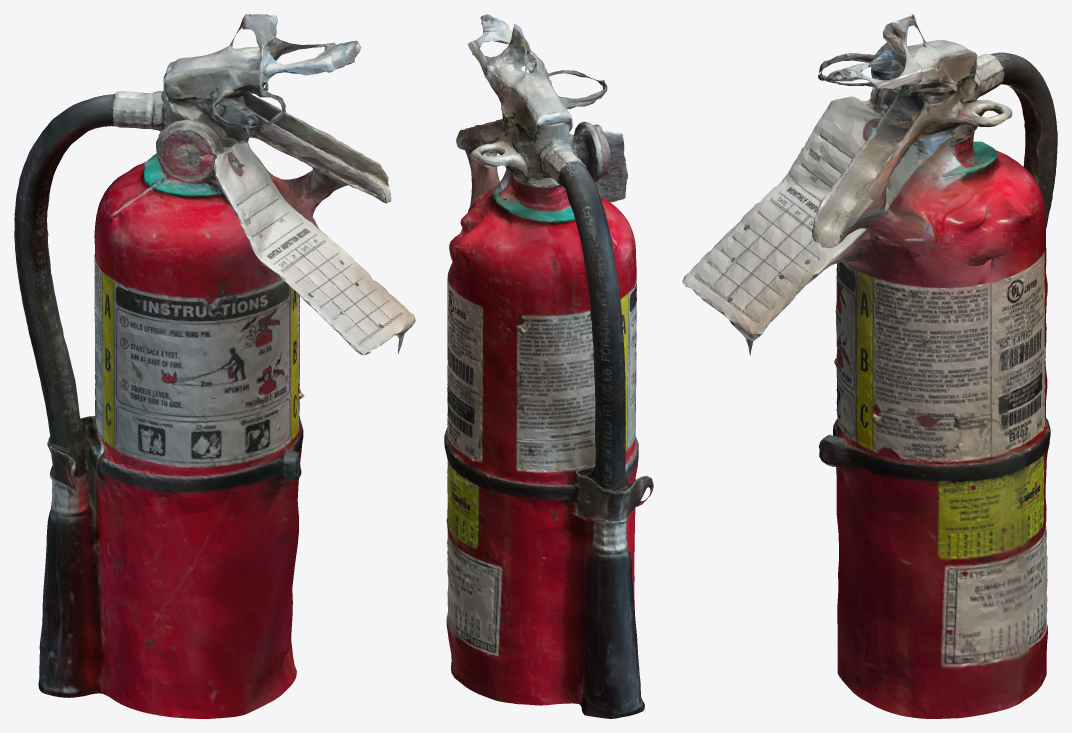
The model's file is fireextinguisher.fbx.
The picture shows the model from 3 angles, left to right: view 1: azimuth 30°, elevation 25°; view 2: azimuth 150°, elevation 25°; view 3: azimuth 270°, elevation 25°; orthographic projection. The views are drawn at different scales.
Visible parts, largest first — view 1: Mesh_0; view 2: Mesh_0; view 3: Mesh_0.
Boxes of the visible parts, <box> form: Mesh_0: <box>14,14,415,718</box>; Mesh_0: <box>444,14,653,718</box>; Mesh_0: <box>682,14,1057,718</box>.
Size of the model in its own units: 0.1652 by 0.3815 by 0.1906.
